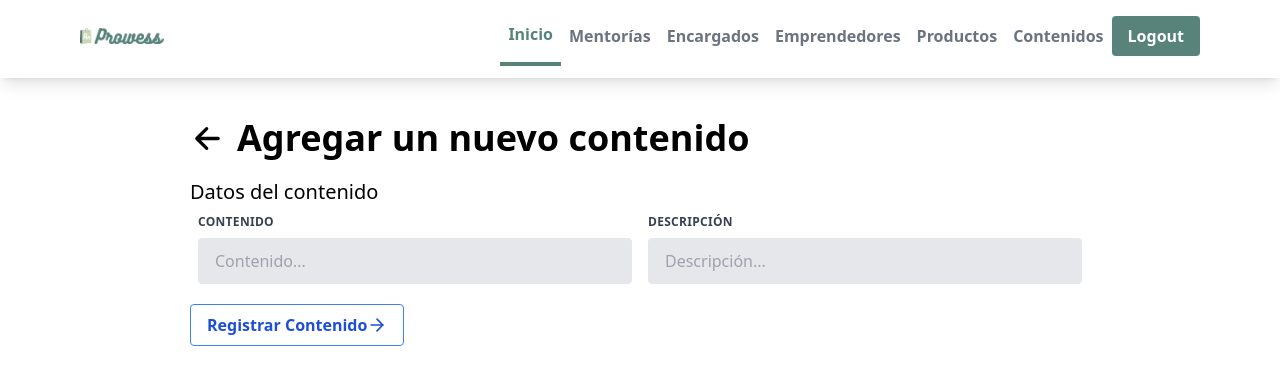
it: AddContent Component › shows validation errors when form is submitted with empty fields
Click the button "Registrar Contenido" at (297, 325), box 190,304 -> 404,346
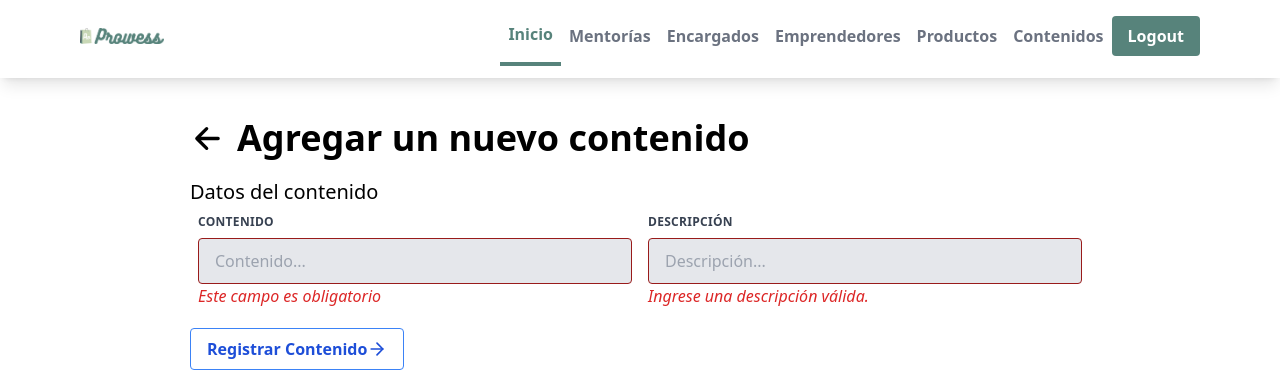
Expected: the text "Este campo es obligatorio" is shown, 198,285 -> 381,307
